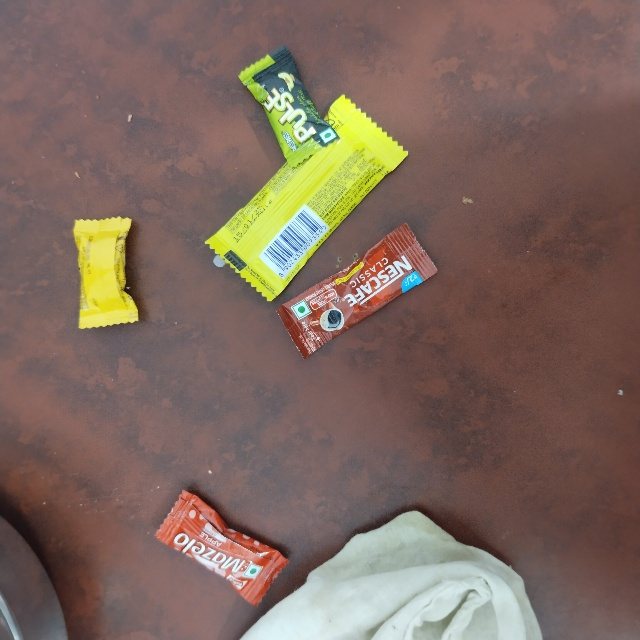Alpenlibe Creamfills: (70, 218, 133, 329)
Mazelo: (184, 485, 312, 542)
Nescafe Coffee: (277, 311, 435, 372)
Orbit: (343, 89, 439, 303)
Pulse: (240, 73, 293, 183)
